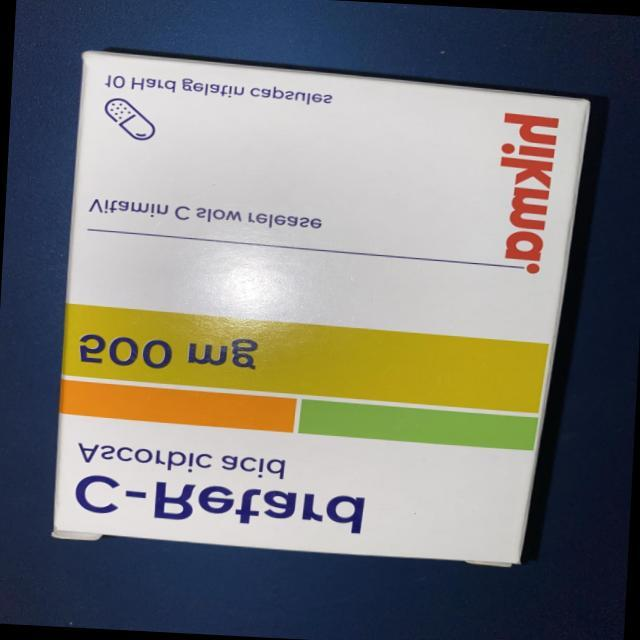Medicine Name: (62, 466, 386, 542)
